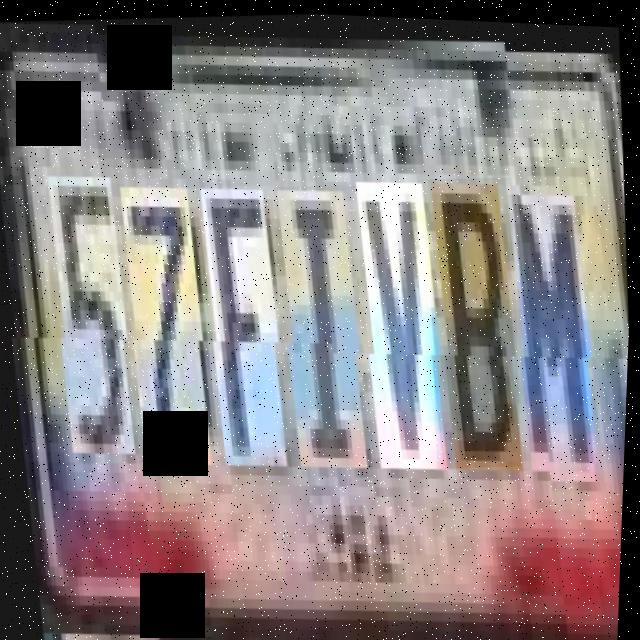5: (40, 178, 145, 467)
7: (111, 179, 221, 466)
B: (420, 169, 533, 467)
F: (191, 179, 296, 466)
I: (266, 179, 377, 467)
M: (496, 168, 608, 467)
V: (345, 169, 456, 466)
